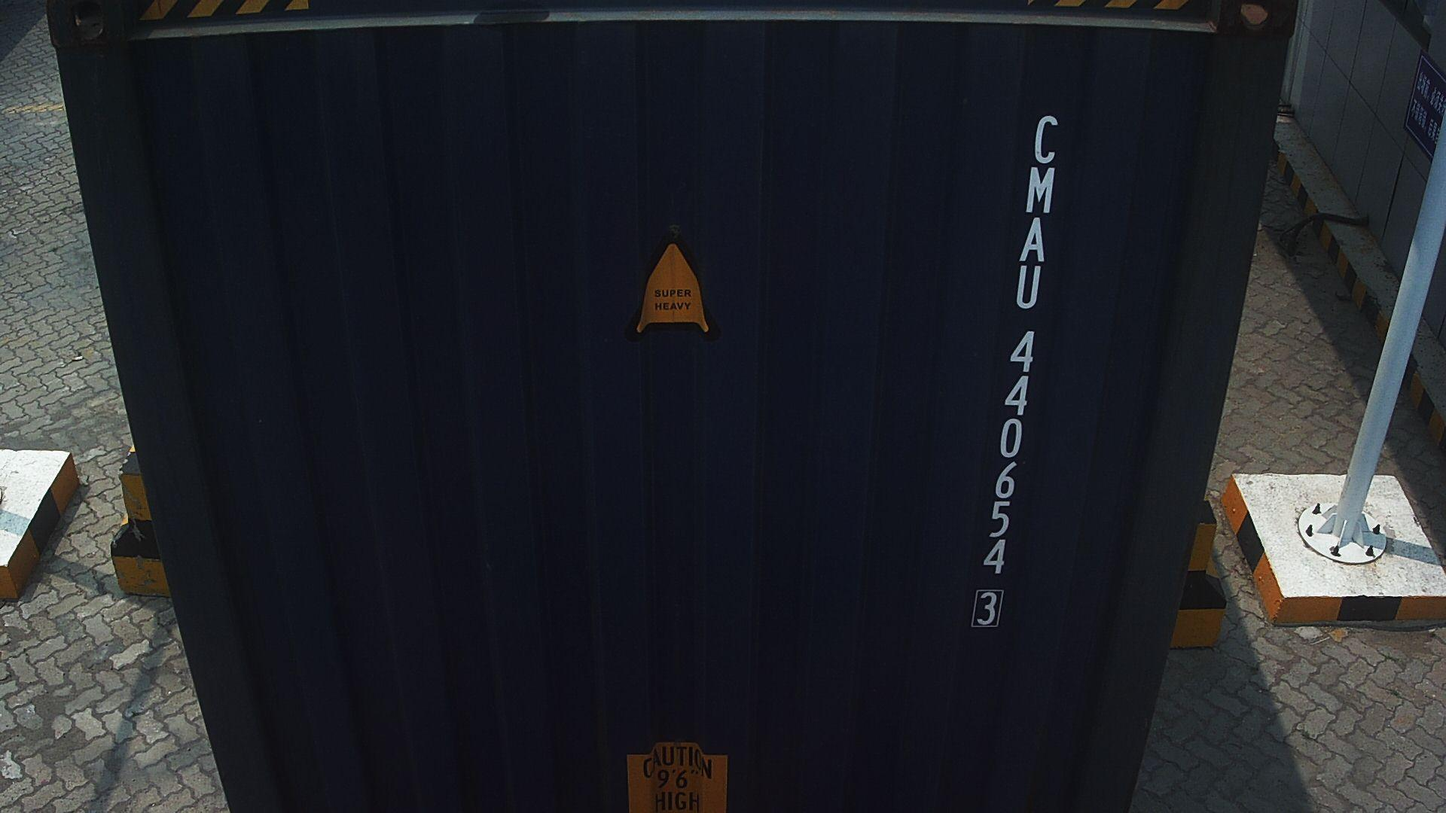container-numbers: (967, 109, 1064, 633)
